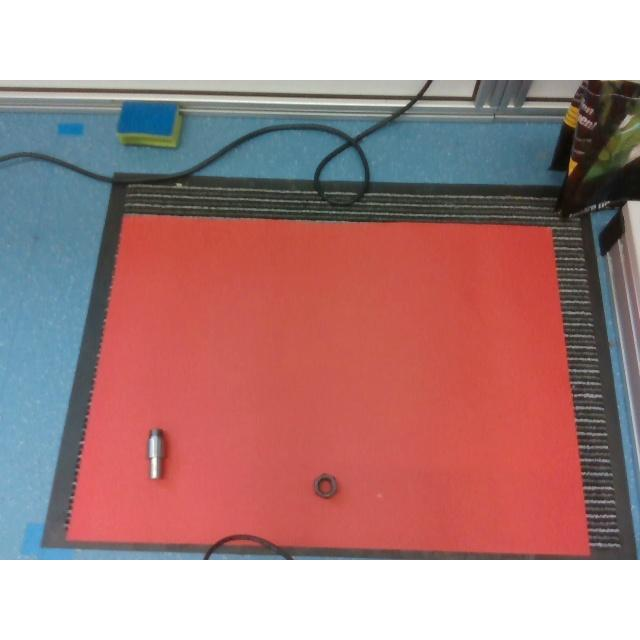Axis2: (146, 427, 170, 481)
M20: (314, 473, 338, 497)
